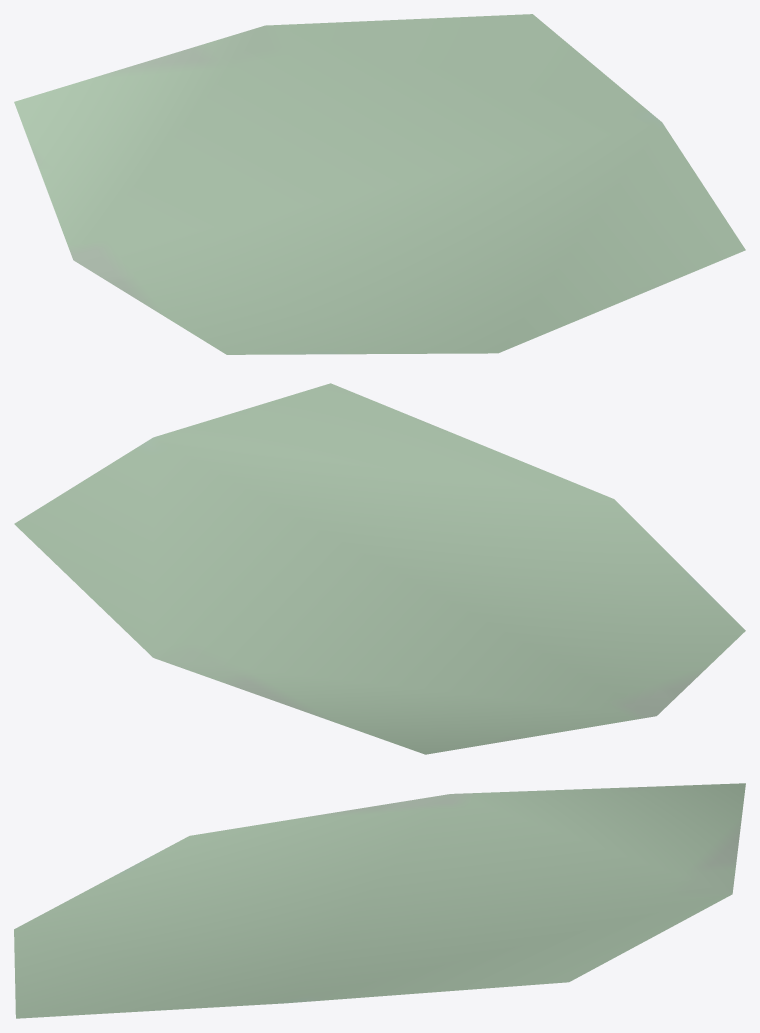
Rendered from TROLLHOLE02_HOLECAP183.fbx.
The picture shows the model from 3 angles, top to bottom: view 1: azimuth 30°, elevation 25°; view 2: azimuth 150°, elevation 25°; view 3: azimuth 270°, elevation 25°; orthographic projection. The views are drawn at different scales.
Parts seen in each view (by area): view 1: TROLLHOLE02_HOLECAP183; view 2: TROLLHOLE02_HOLECAP183; view 3: TROLLHOLE02_HOLECAP183.
Boxes of the visible parts, x1,y1,x2,y2 form: TROLLHOLE02_HOLECAP183: (14, 14, 745, 354); TROLLHOLE02_HOLECAP183: (14, 383, 745, 754); TROLLHOLE02_HOLECAP183: (14, 783, 745, 1018).
Size of the model in its own units: 23097 by 4345 by 25226.
1 material, 1 textured.
